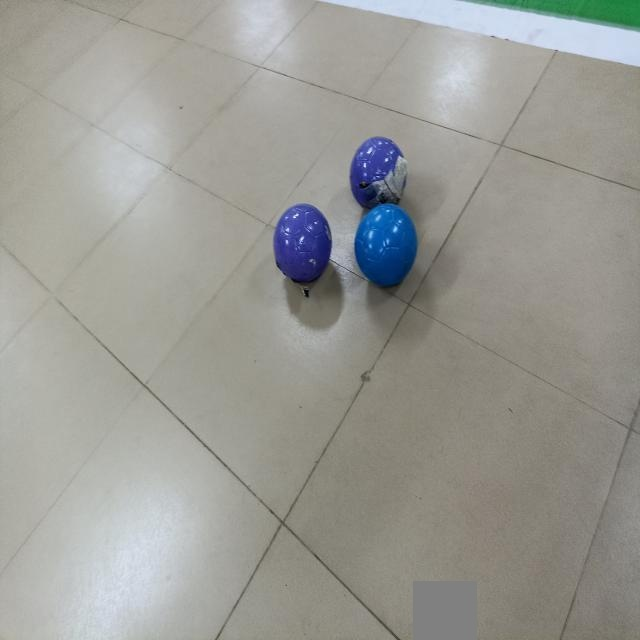blue_ball: (352, 195, 425, 286)
purple_ball: (273, 196, 333, 289), (353, 126, 412, 206)
